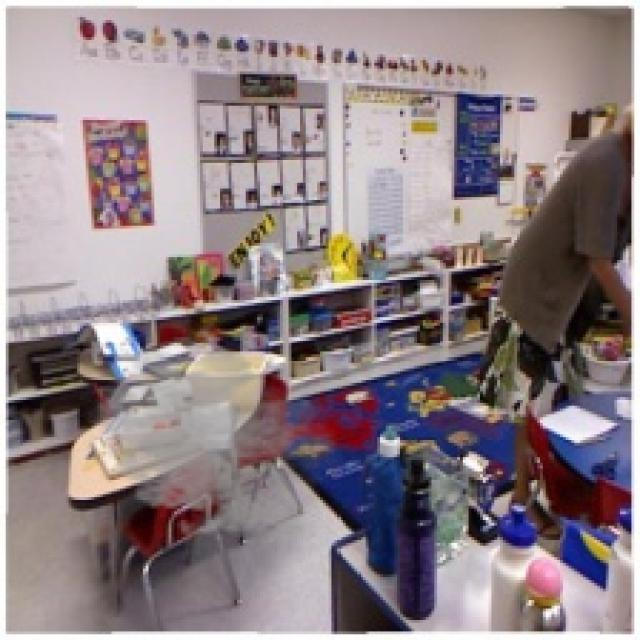smoke: (83, 326, 346, 548)
